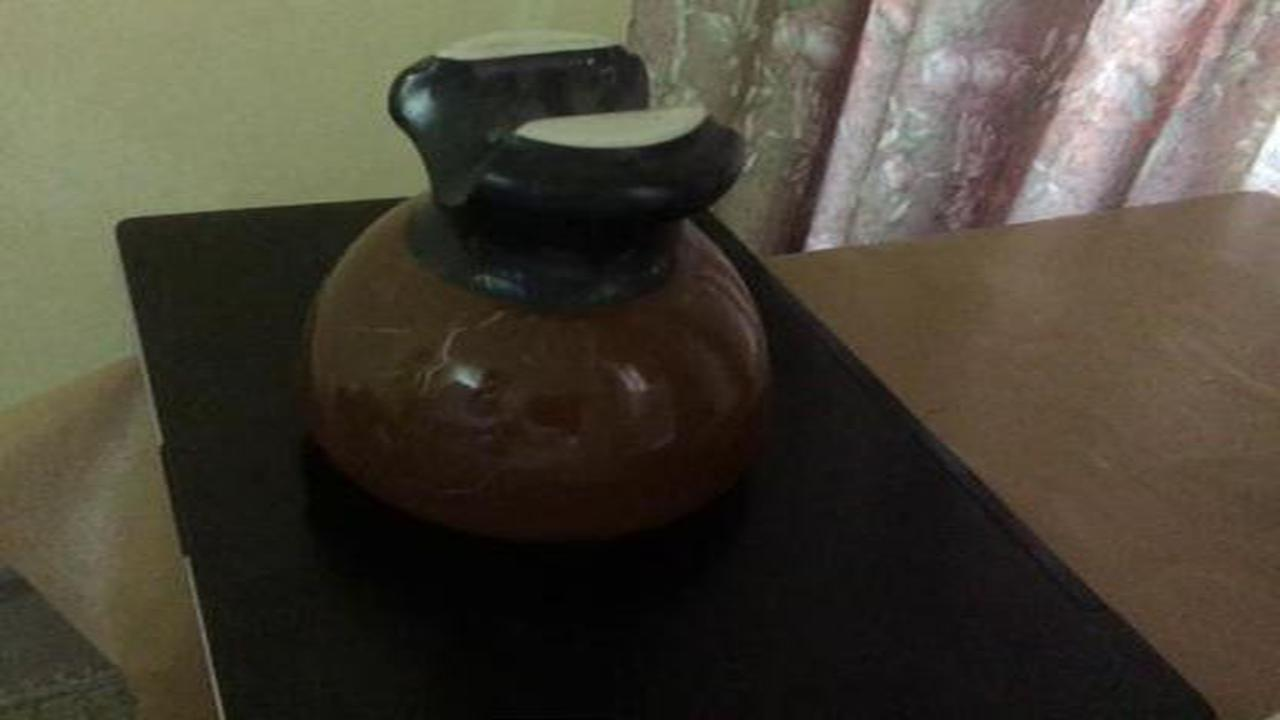insulator_pin: (286, 33, 791, 568)
